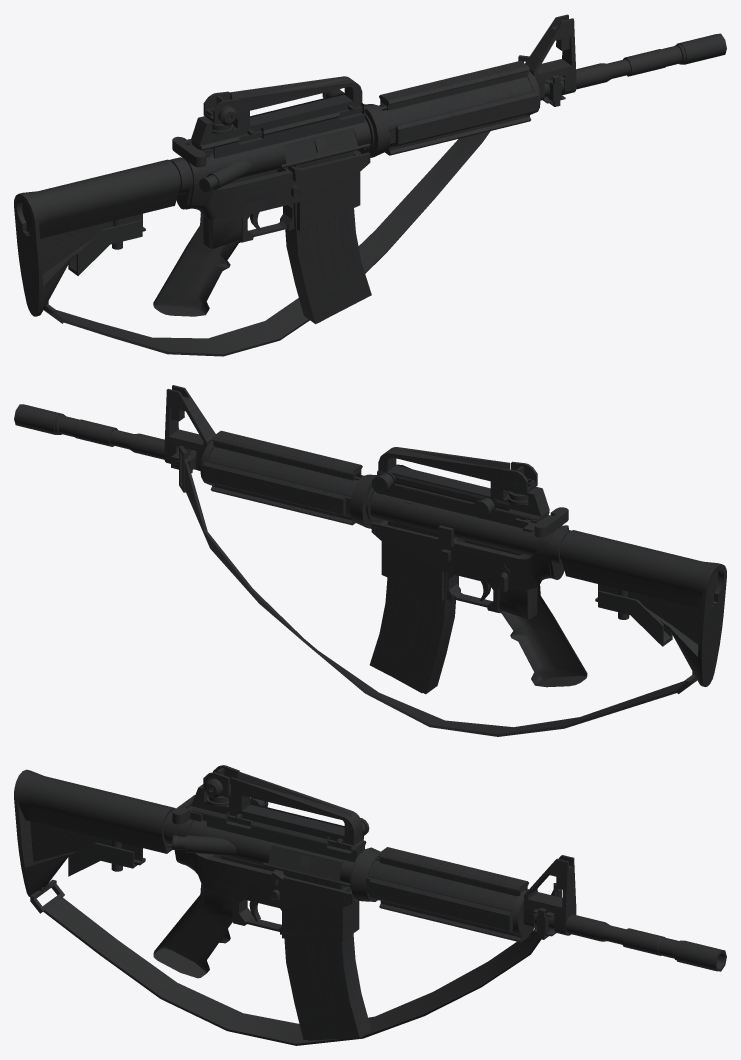
Rendered from M4_lowPoly_06.dae.
3 views of the same model, one above another, from view 1: azimuth 30°, elevation 25°; view 2: azimuth 150°, elevation 25°; view 3: azimuth 330°, elevation 25° (orthographic).
Parts seen in each view (by area): view 1: Buttstock, Strap, Upper_Handguard, Lower_Receiver, Tube, Gun_Carrying_Handle, Pistol_Grip, Upper_Receiver, Barrel_Assembly, Ejection_Port_Cover, Buttstock_Release_Lever, Lower_Handguard (+4 smaller); view 2: Buttstock, Upper_Handguard, Lower_Receiver, Tube, Upper_Receiver, Strap, Pistol_Grip, Barrel_Assembly, Gun_Carrying_Handle, Buttstock_Release_Lever, Lower_Handguard, Clamping_Bar (+4 smaller); view 3: Buttstock, Strap, Lower_Receiver, Upper_Handguard, Tube, Gun_Carrying_Handle, Barrel_Assembly, Upper_Receiver, Pistol_Grip, Ejection_Port_Cover, Buttstock_Release_Lever, Lower_Handguard (+5 smaller).
Part boxes in pixels (left/top/right/bottom): Buttstock: left=14, top=159, right=179, bottom=316; Strap: left=56, top=131, right=490, bottom=356; Upper_Handguard: left=378, top=60, right=538, bottom=145; Lower_Receiver: left=182, top=151, right=370, bottom=242; Tube: left=285, top=151, right=371, bottom=324; Gun_Carrying_Handle: left=191, top=76, right=364, bottom=145; Pistol_Grip: left=153, top=213, right=242, bottom=316; Upper_Receiver: left=191, top=106, right=374, bottom=189; Barrel_Assembly: left=525, top=14, right=682, bottom=115; Ejection_Port_Cover: left=283, top=128, right=358, bottom=167; Buttstock_Release_Lever: left=68, top=220, right=142, bottom=275; Lower_Handguard: left=385, top=107, right=539, bottom=155; Buttstock: left=561, top=530, right=726, bottom=686; Upper_Handguard: left=203, top=430, right=363, bottom=515; Lower_Receiver: left=371, top=521, right=560, bottom=612; Tube: left=369, top=520, right=457, bottom=694; Upper_Receiver: left=366, top=476, right=549, bottom=555; Strap: left=184, top=459, right=684, bottom=736; Pistol_Grip: left=498, top=585, right=587, bottom=687; Barrel_Assembly: left=58, top=385, right=215, bottom=485; Gun_Carrying_Handle: left=378, top=447, right=549, bottom=516; Buttstock_Release_Lever: left=598, top=590, right=672, bottom=646; Lower_Handguard: left=210, top=484, right=355, bottom=525; Clamping_Bar: left=377, top=470, right=509, bottom=512; Buttstock: left=14, top=769, right=175, bottom=896; Strap: left=43, top=890, right=553, bottom=1045; Lower_Receiver: left=176, top=819, right=359, bottom=941; Upper_Handguard: left=366, top=847, right=528, bottom=932; Tube: left=283, top=871, right=371, bottom=1039; Gun_Carrying_Handle: left=191, top=771, right=362, bottom=853; Barrel_Assembly: left=512, top=855, right=678, bottom=958; Upper_Receiver: left=185, top=806, right=366, bottom=901; Pistol_Grip: left=153, top=884, right=232, bottom=978; Ejection_Port_Cover: left=267, top=845, right=342, bottom=884; Buttstock_Release_Lever: left=68, top=842, right=137, bottom=876; Lower_Handguard: left=379, top=901, right=533, bottom=942.
Bounding box in the file's own units: 0.7566 × 0.095 × 0.2753.
Materials: 1 (1 with a texture image).
